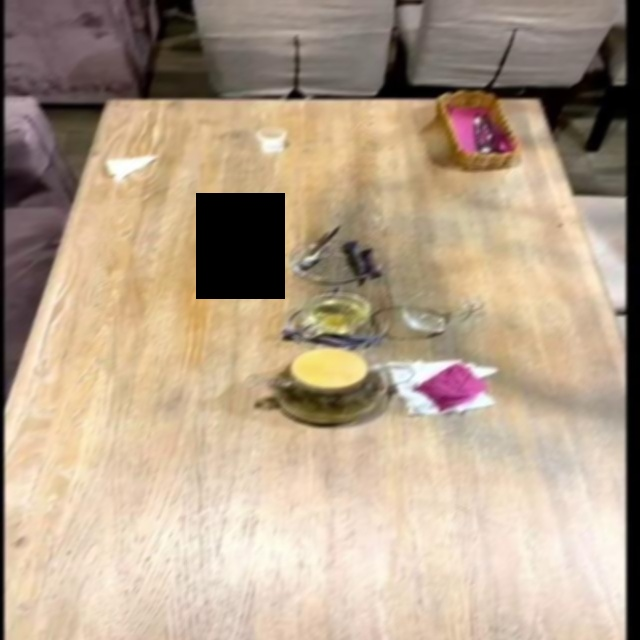tea: (266, 345, 391, 425)
